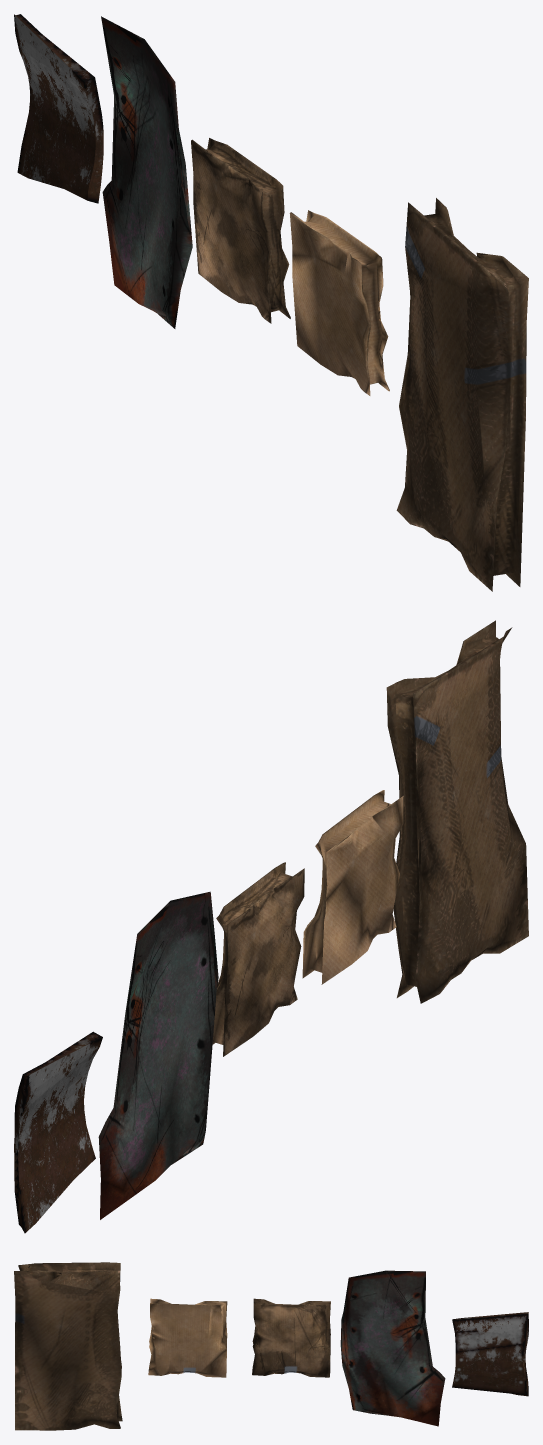
The model's file is CARDBOARD_ANS_METAL_SHEET.fbx.
3 views of the same model, one above another, from view 1: azimuth 30°, elevation 25°; view 2: azimuth 150°, elevation 25°; view 3: azimuth 270°, elevation 25° (orthographic). The views are drawn at different scales.
Visible parts, largest first — view 1: Cardboard02, metalsheet01, cardboard.001, cardboard, metalsheet02; view 2: Cardboard02, metalsheet01, cardboard.001, cardboard, metalsheet02; view 3: Cardboard02, metalsheet01, cardboard, cardboard.001, metalsheet02.
Boxes of the visible parts, x1,y1,x2,y2 form: Cardboard02: (396, 198, 528, 591); metalsheet01: (101, 16, 192, 328); cardboard.001: (289, 210, 389, 395); cardboard: (191, 138, 290, 323); metalsheet02: (14, 14, 103, 203); Cardboard02: (386, 620, 528, 1003); metalsheet01: (98, 891, 218, 1219); cardboard.001: (302, 790, 403, 984); cardboard: (212, 862, 304, 1056); metalsheet02: (14, 1031, 102, 1233); Cardboard02: (14, 1262, 122, 1430); metalsheet01: (340, 1270, 445, 1426); cardboard: (252, 1298, 330, 1377); cardboard.001: (148, 1298, 227, 1377); metalsheet02: (452, 1312, 528, 1396).
Bounding box in the file's own units: 88.57 × 577 × 1637.
